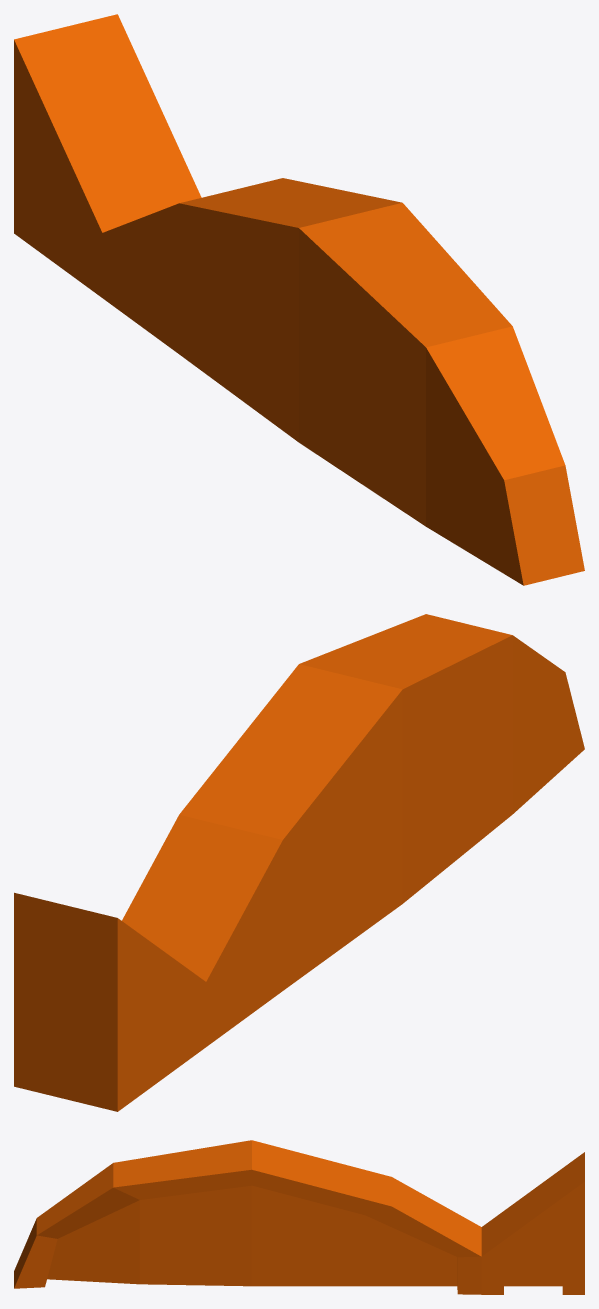
3 renders of one model, top to bottom at view 1: azimuth 30°, elevation 25°; view 2: azimuth 150°, elevation 25°; view 3: azimuth 270°, elevation 25°, orthographic. The views are drawn at different scales.
Parts seen in each view (by area): view 1: FishMoney; view 2: FishMoney; view 3: FishMoney.
Boxes of the visible parts, x1,y1,x2,y2 form: FishMoney: (14,14,584,585); FishMoney: (14,614,584,1111); FishMoney: (14,1140,584,1294).
Size of the model in its own units: 0.0214 by 0.0423 by 0.1743.
